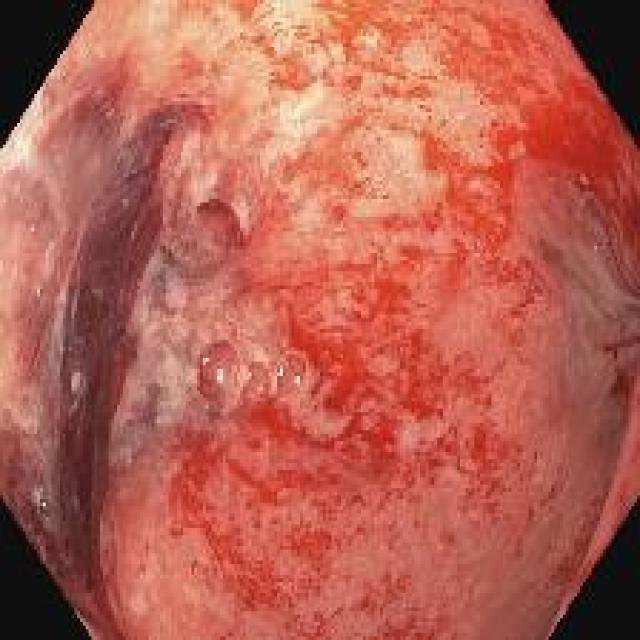ulcerative-colitis-grade-3: (0, 2, 640, 640)
